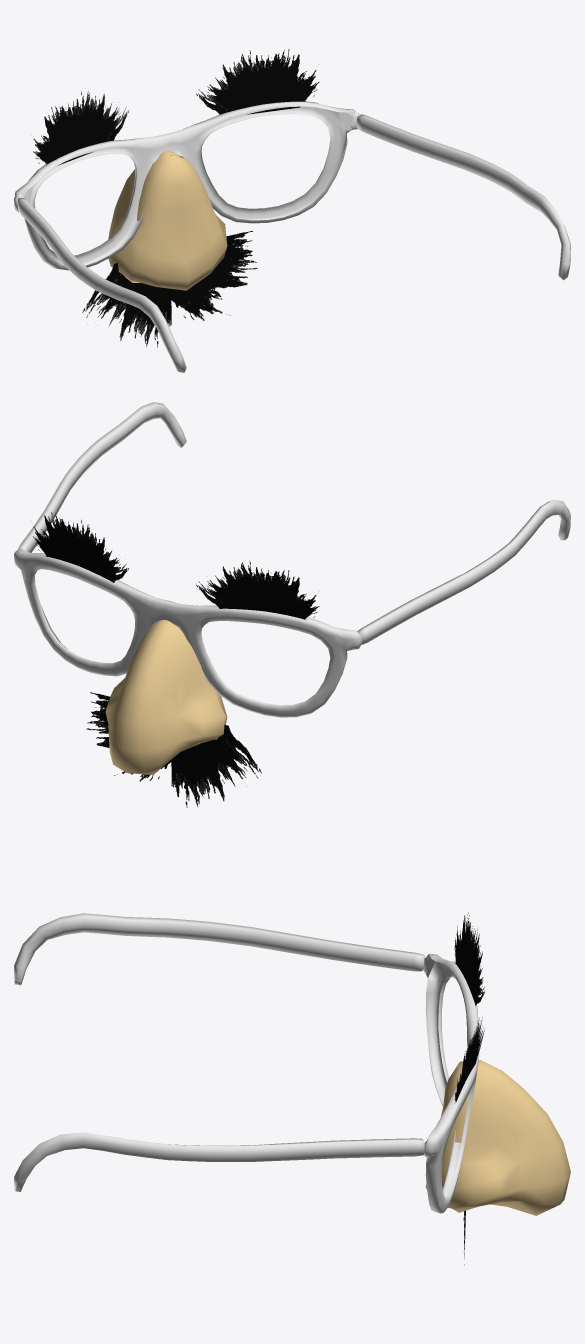
The model's file is Fake Nose Glasses.fbx.
3 views of the same model, one above another, from view 1: azimuth 30°, elevation 25°; view 2: azimuth 150°, elevation 25°; view 3: azimuth 270°, elevation 25° (orthographic). The views are drawn at different scales.
Parts seen in each view (by area): view 1: Fake Nose Glasses; view 2: Fake Nose Glasses; view 3: Fake Nose Glasses.
Boxes of the visible parts, x1,y1,x2,y2 form: Fake Nose Glasses: [14, 49, 570, 372]; Fake Nose Glasses: [14, 402, 570, 807]; Fake Nose Glasses: [14, 912, 570, 1264].
Size of the model in its own units: 220 by 149 by 227.
Materials: 3 (1 with a texture image).
